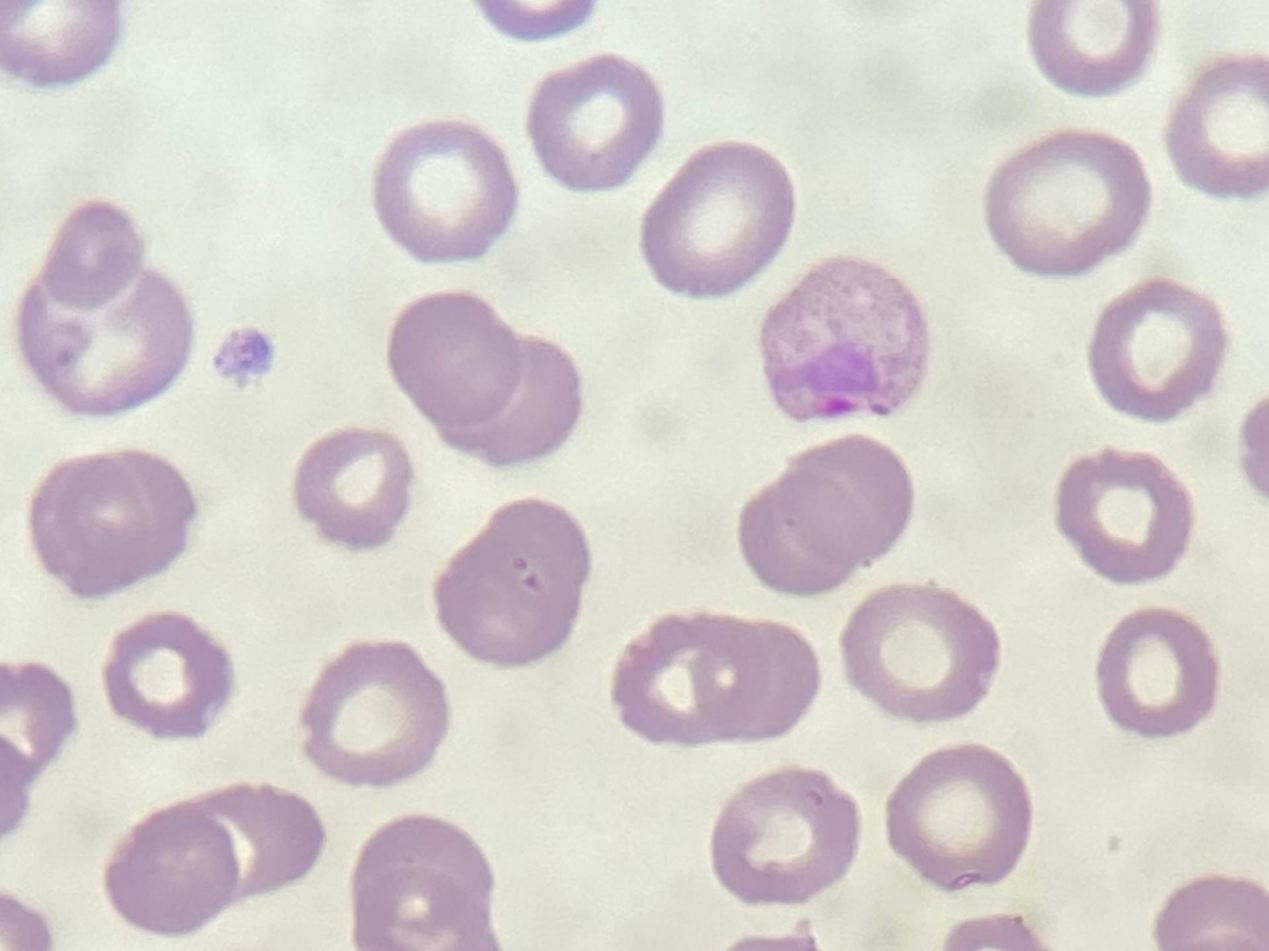Infected: (760, 258, 930, 421)
Uninfected: (441, 494, 592, 674), (20, 266, 192, 416), (641, 137, 794, 298), (986, 131, 1151, 277), (610, 607, 778, 745), (302, 640, 454, 786), (839, 584, 996, 721), (370, 121, 518, 265), (887, 745, 1032, 889), (1087, 276, 1226, 421), (711, 767, 857, 903), (435, 334, 581, 466), (387, 293, 525, 432), (1054, 448, 1193, 586), (529, 50, 662, 188), (30, 453, 154, 596), (778, 437, 909, 572), (102, 803, 237, 933), (102, 612, 231, 740), (1097, 608, 1219, 740), (740, 470, 867, 595), (350, 817, 494, 926), (1160, 58, 1269, 198), (294, 428, 412, 549), (1028, 0, 1159, 96), (40, 202, 146, 306)
